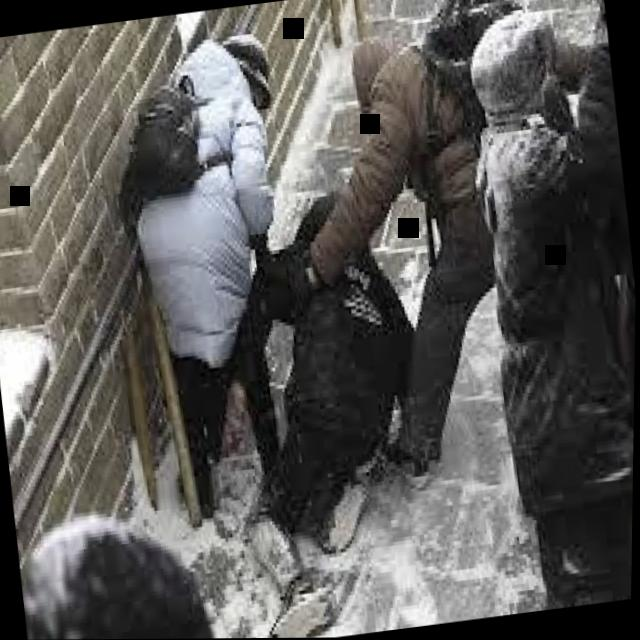Fall-Detected: (208, 169, 435, 550)
